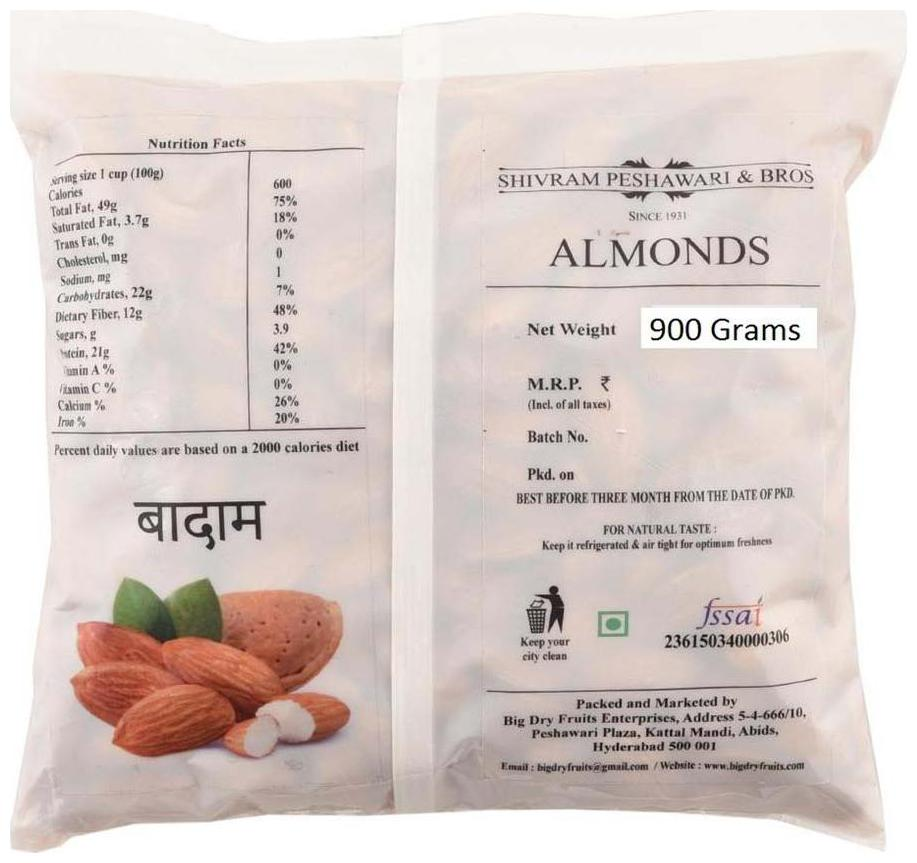fssai: (692, 595, 767, 629)
